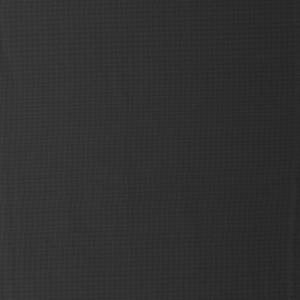Wrinkle: (1, 31, 27, 114)
